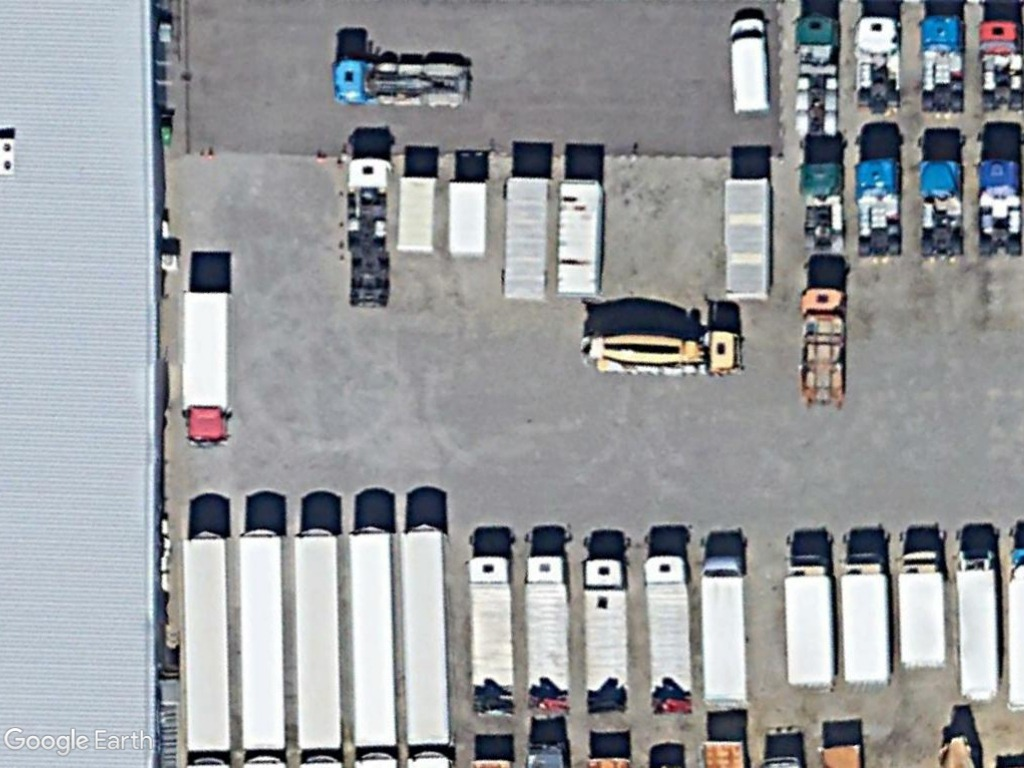longvehicle: (178, 530, 235, 768), (396, 525, 451, 768), (291, 530, 346, 768), (237, 527, 290, 768), (345, 528, 395, 768)
truck: (178, 284, 234, 452), (694, 555, 749, 708), (639, 553, 694, 702), (837, 549, 894, 687), (782, 553, 838, 692), (579, 556, 630, 699), (955, 547, 1000, 703), (464, 555, 515, 690), (525, 553, 572, 698), (897, 548, 948, 670)
van: (728, 14, 773, 116)
